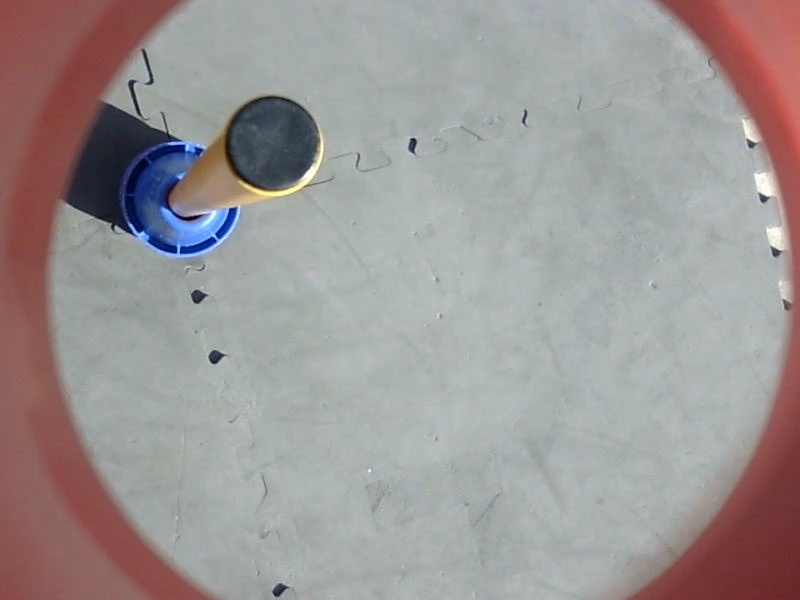tip: (221, 91, 328, 202)
